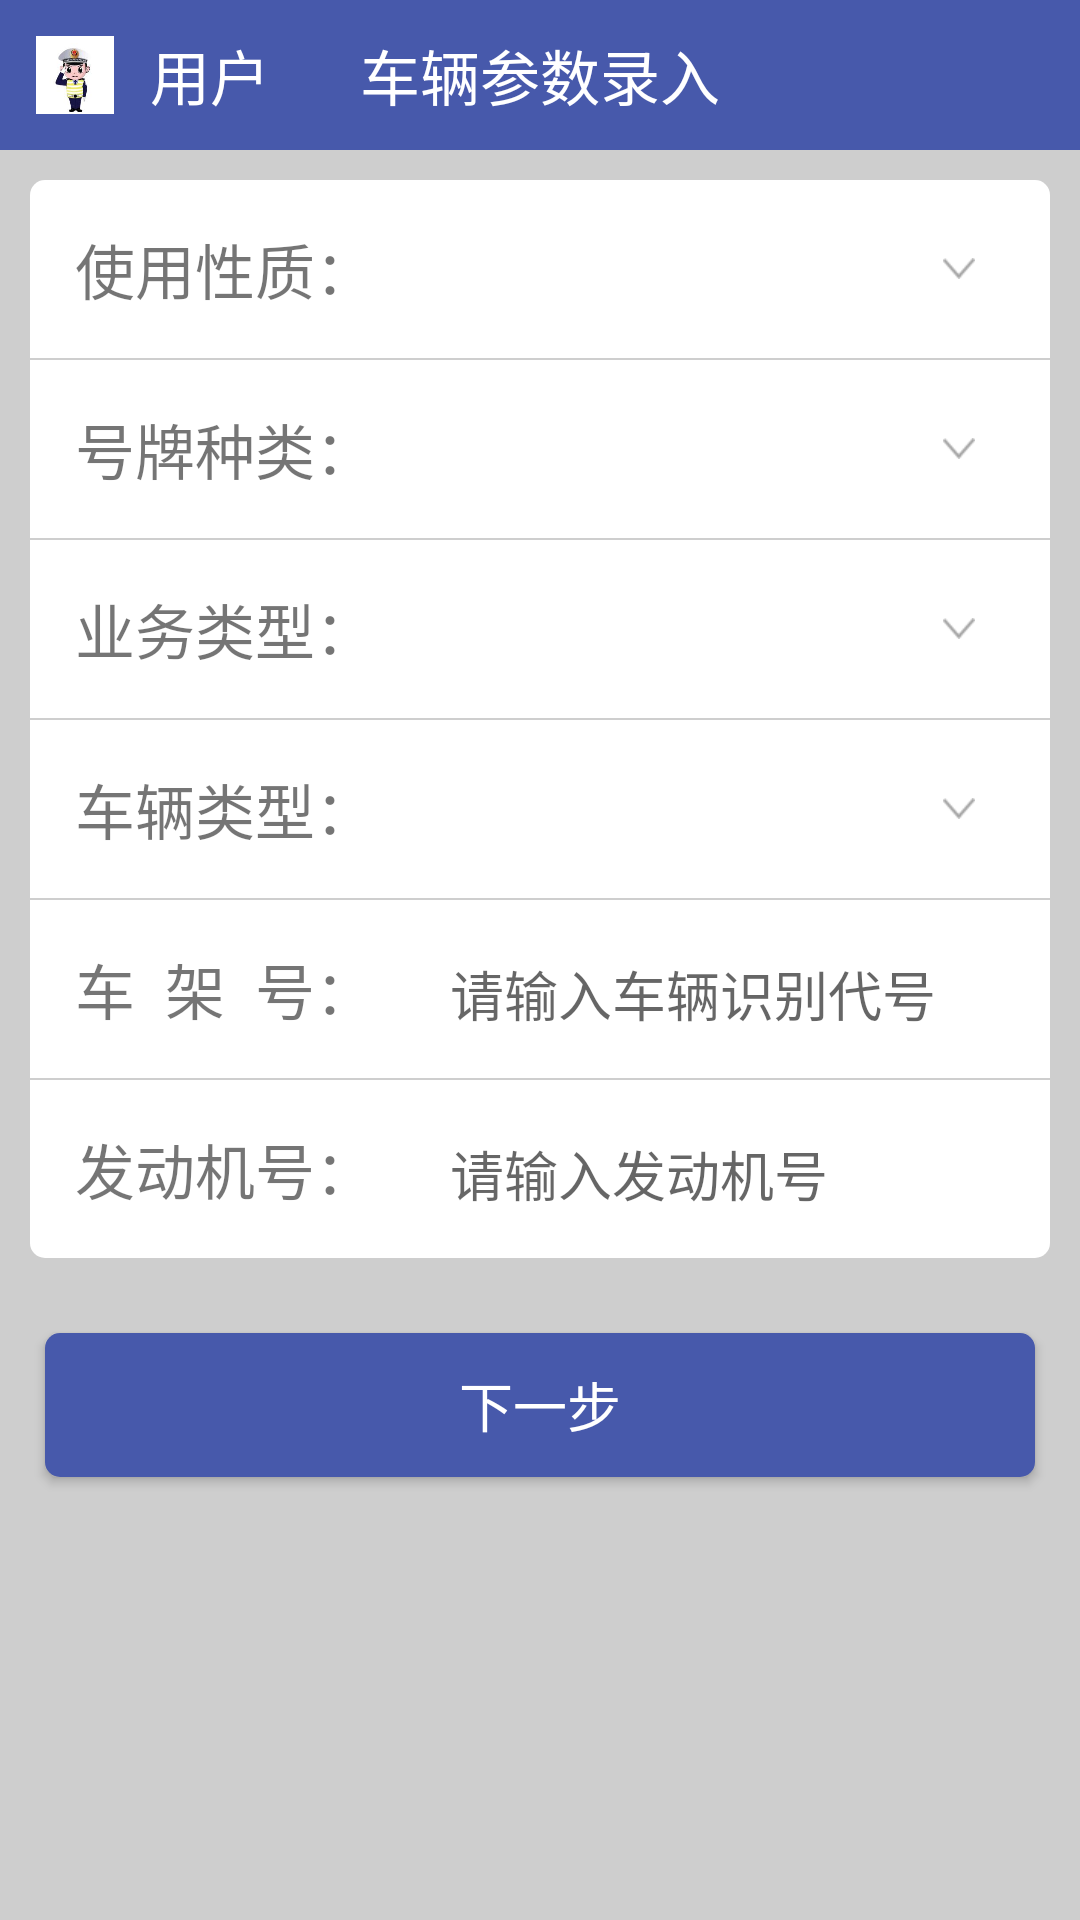

Locate icon controls on the screen. Image size 1080*1920, boxes as bbox(x1, y1, x2, y2).
down: bbox(943, 258, 975, 279), bbox(943, 438, 975, 459), bbox(943, 618, 975, 639), bbox(943, 798, 975, 819)
user: bbox(36, 36, 114, 114)
